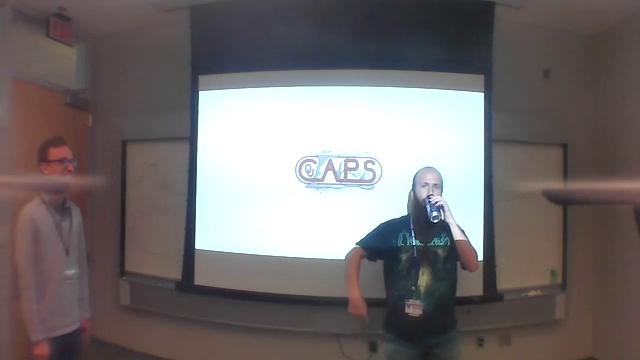down: (344, 291, 372, 330)
